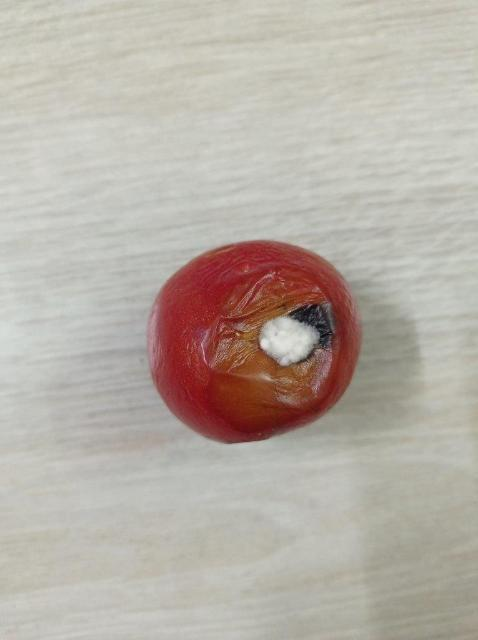defect: (145, 231, 368, 454)
